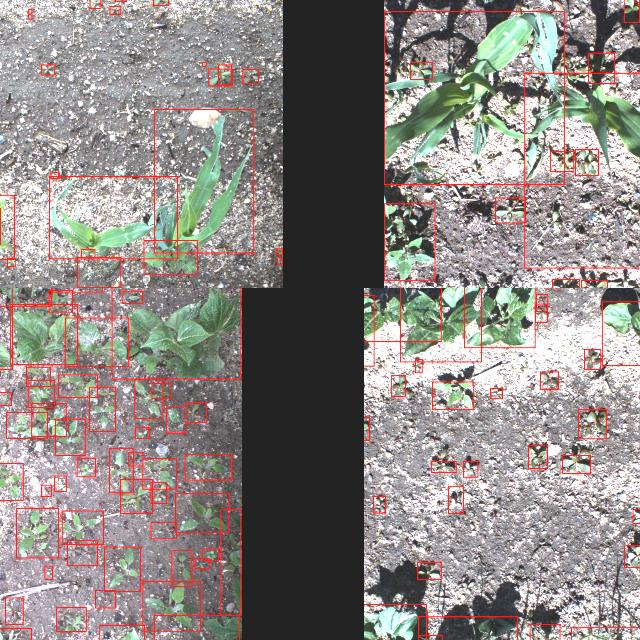crop: (383, 10, 563, 184), (523, 72, 640, 267), (154, 108, 254, 252), (111, 288, 240, 378), (49, 176, 177, 258), (399, 288, 480, 361), (9, 304, 77, 364), (364, 288, 440, 341), (64, 316, 128, 366), (601, 301, 640, 365), (417, 616, 516, 640), (364, 603, 426, 640), (153, 614, 239, 640), (0, 193, 13, 258), (529, 623, 559, 640)
weed: (463, 288, 534, 347), (384, 203, 434, 280), (142, 581, 200, 631), (175, 492, 229, 532), (221, 508, 241, 614), (15, 507, 57, 557), (143, 240, 197, 274), (104, 546, 140, 590), (61, 510, 103, 544), (76, 257, 120, 287), (184, 454, 232, 480), (30, 402, 66, 436), (89, 386, 115, 432), (134, 378, 162, 418), (120, 479, 152, 513), (55, 418, 85, 454), (109, 448, 133, 492), (6, 412, 46, 438), (432, 382, 472, 408), (142, 458, 176, 488), (0, 288, 50, 306), (57, 374, 97, 396), (0, 462, 22, 499), (578, 409, 606, 438), (588, 52, 614, 82), (27, 379, 53, 407), (495, 198, 525, 222), (171, 550, 191, 586), (56, 607, 86, 631), (67, 540, 97, 564), (364, 294, 373, 365), (574, 149, 598, 175), (48, 289, 72, 311), (166, 406, 186, 432), (562, 455, 590, 473), (550, 151, 574, 171), (26, 366, 50, 386), (4, 597, 22, 623), (208, 68, 232, 86), (528, 444, 546, 468), (416, 561, 440, 579), (150, 522, 176, 538), (186, 402, 206, 422), (409, 61, 431, 79), (448, 486, 462, 512), (76, 458, 95, 477), (95, 589, 115, 607), (624, 545, 640, 567), (540, 371, 558, 389), (150, 482, 166, 502), (151, 382, 171, 398), (584, 349, 600, 369), (623, 0, 638, 21), (391, 374, 405, 396), (430, 461, 456, 472), (218, 64, 232, 84), (551, 278, 578, 288), (462, 460, 478, 476), (122, 290, 142, 302), (242, 69, 258, 83), (535, 304, 547, 322), (581, 280, 607, 288), (128, 451, 142, 465), (202, 548, 218, 560), (372, 496, 384, 512), (535, 294, 547, 310), (54, 476, 66, 490), (135, 427, 149, 438), (417, 634, 441, 640), (40, 64, 54, 74), (195, 558, 209, 568), (0, 391, 10, 404), (41, 484, 51, 496), (632, 508, 640, 523), (490, 388, 502, 398), (80, 248, 94, 256), (44, 565, 52, 579), (414, 360, 422, 372), (89, 0, 100, 8), (110, 6, 120, 14), (6, 258, 14, 266), (152, 0, 167, 4), (50, 172, 58, 178), (276, 248, 282, 254), (278, 256, 282, 264), (28, 8, 30, 18), (202, 62, 206, 66)
